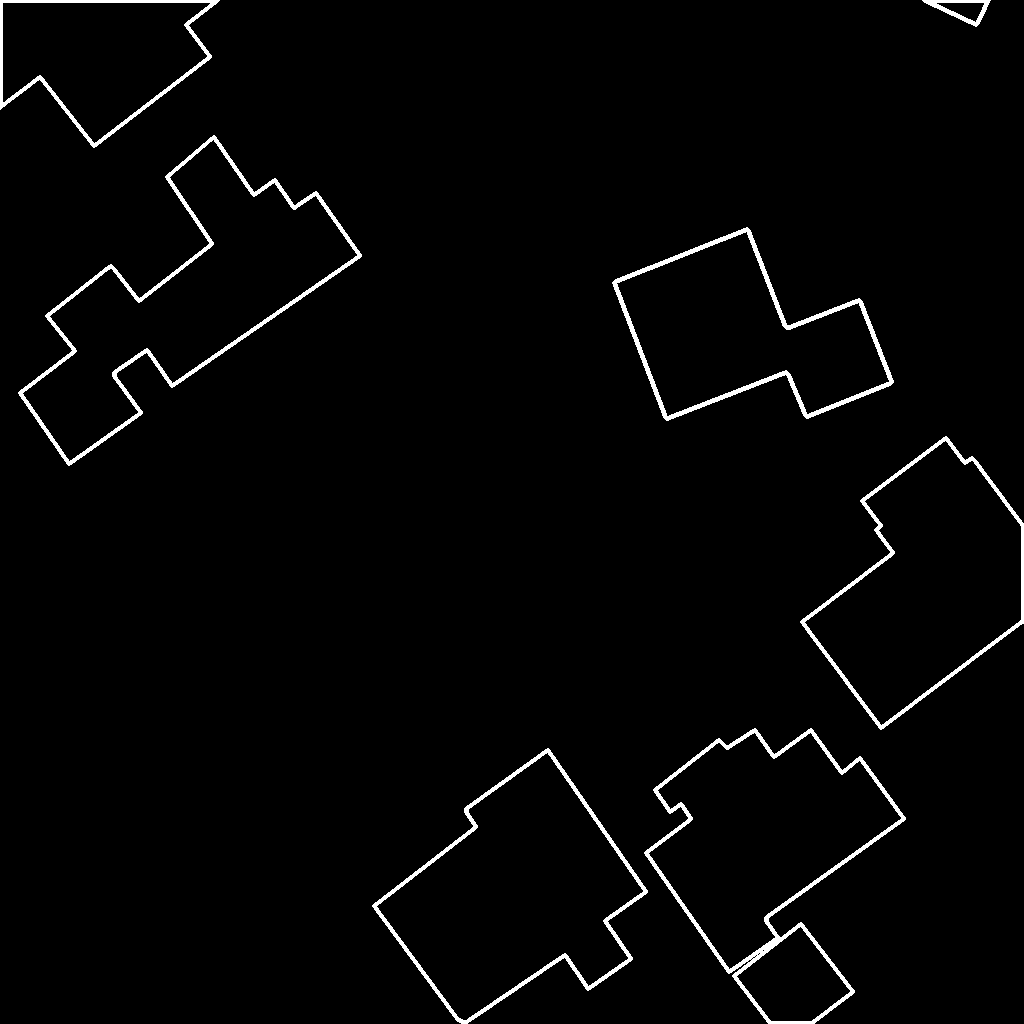building: (20, 137, 361, 465), (374, 750, 647, 1024), (802, 438, 1024, 729), (646, 730, 905, 973), (614, 229, 893, 420), (0, 0, 220, 147), (734, 924, 854, 1024), (923, 0, 990, 26)
